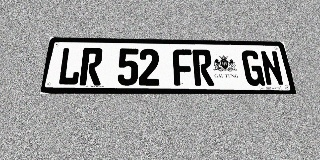2: (139, 49, 159, 86)
5: (117, 48, 139, 85)
F: (172, 49, 194, 86)
G: (241, 50, 265, 86)
L: (57, 47, 82, 85)
N: (259, 50, 285, 86)
R: (79, 48, 103, 85), (192, 49, 214, 86)
